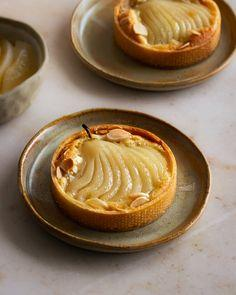Tart: (52, 122, 179, 228), (98, 0, 236, 72)
